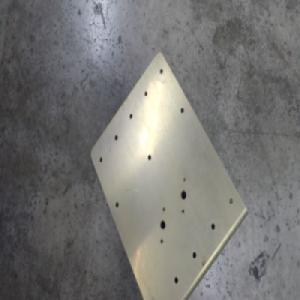MetalSheet: (89, 50, 250, 300)
